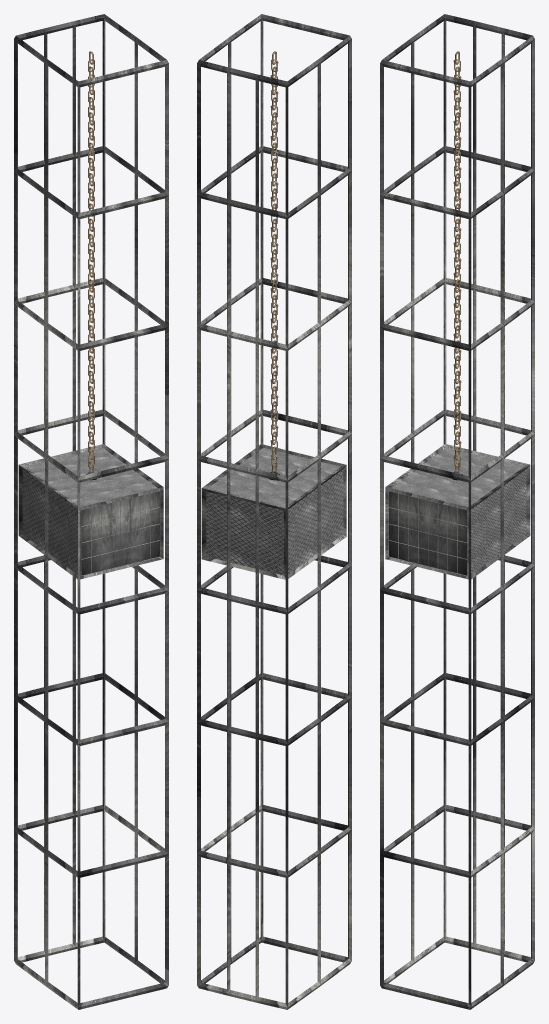
File: Industrial-Elevator.fbx
3 views of the same model, side by side, from view 1: azimuth 30°, elevation 25°; view 2: azimuth 150°, elevation 25°; view 3: azimuth 330°, elevation 25° (orthographic).
Visible parts, largest first — view 1: Elevator Lift, Elevator, Elevator Door Left, Elevator Door Right, Elevator.002, Chain, Elevator Door Left Grate, Elevator Door Right Grate; view 2: Elevator Lift, Elevator, Elevator.002, Chain; view 3: Elevator Lift, Elevator, Elevator Door Right, Elevator Door Left, Elevator.002, Chain, Elevator Door Right Grate, Elevator Door Left Grate.
Boxes of the visible parts, left/top/right/bottom form: Elevator Lift: left=14, top=14, right=168, bottom=1009; Elevator: left=22, top=447, right=157, bottom=574; Elevator Door Left: left=81, top=501, right=120, bottom=575; Elevator Door Right: left=121, top=491, right=159, bottom=565; Elevator.002: left=18, top=444, right=163, bottom=579; Chain: left=88, top=51, right=94, bottom=473; Elevator Door Left Grate: left=81, top=500, right=120, bottom=576; Elevator Door Right Grate: left=120, top=491, right=160, bottom=566; Elevator Lift: left=197, top=14, right=351, bottom=1009; Elevator: left=206, top=447, right=343, bottom=575; Elevator.002: left=201, top=444, right=346, bottom=579; Chain: left=270, top=51, right=278, bottom=473; Elevator Lift: left=380, top=14, right=534, bottom=1009; Elevator: left=391, top=447, right=526, bottom=574; Elevator Door Right: left=428, top=501, right=467, bottom=575; Elevator Door Left: left=389, top=491, right=427, bottom=565; Elevator.002: left=385, top=444, right=530, bottom=579; Chain: left=453, top=51, right=461, bottom=473; Elevator Door Right Grate: left=428, top=500, right=467, bottom=576; Elevator Door Left Grate: left=388, top=491, right=428, bottom=566.
Bounding box in the file's own units: 338 × 3229 × 407.
6 materials, 4 textured.
